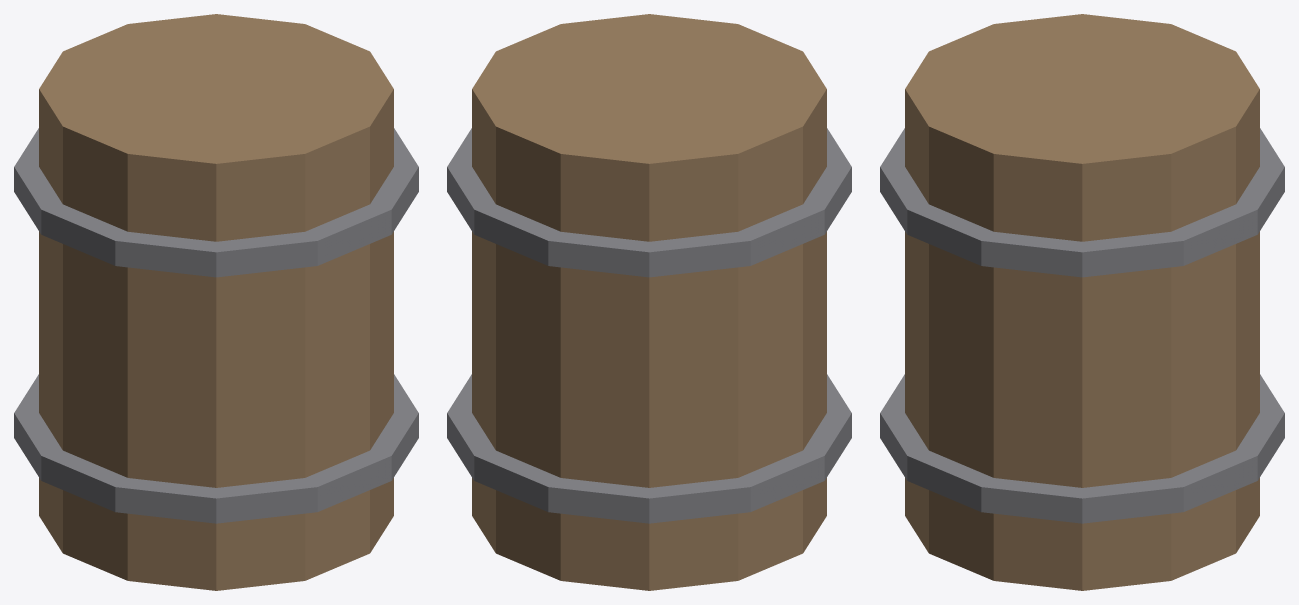
File: barrel.glb
3 views of the same model, side by side, from view 1: azimuth 30°, elevation 25°; view 2: azimuth 150°, elevation 25°; view 3: azimuth 270°, elevation 25° (orthographic).
Parts seen in each view (by area): view 1: Cylinder, Cylinder.001, Cylinder.002; view 2: Cylinder, Cylinder.001, Cylinder.002; view 3: Cylinder, Cylinder.001, Cylinder.002.
Part boxes in pixels (x1=…): Cylinder: x1=39, y1=14, x2=393, y2=590; Cylinder.001: x1=14, y1=374, x2=418, y2=523; Cylinder.002: x1=14, y1=128, x2=418, y2=277; Cylinder: x1=472, y1=14, x2=826, y2=590; Cylinder.001: x1=447, y1=374, x2=851, y2=523; Cylinder.002: x1=447, y1=128, x2=851, y2=277; Cylinder: x1=905, y1=14, x2=1259, y2=590; Cylinder.001: x1=880, y1=374, x2=1284, y2=523; Cylinder.002: x1=880, y1=128, x2=1284, y2=277.
Bounding box in the file's own units: 0.73 × 0.85 × 0.73.
